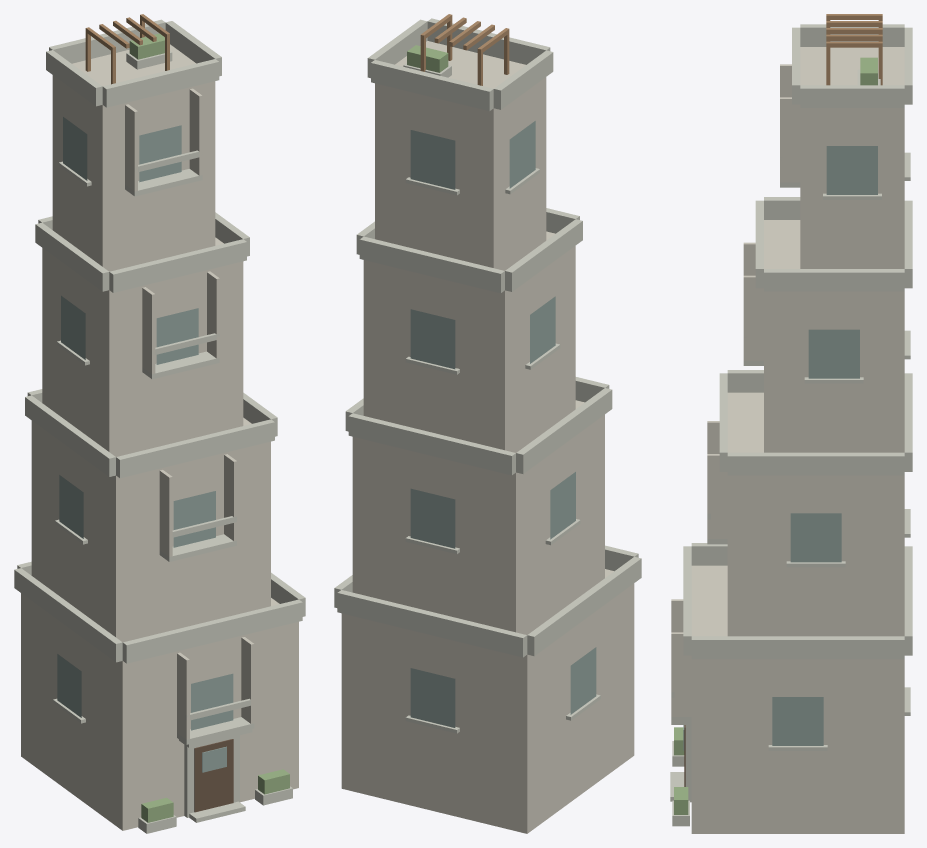
File: residential_1x1_terraces.glb
3 views of the same model, side by side, from view 1: azimuth 30°, elevation 25°; view 2: azimuth 150°, elevation 25°; view 3: azimuth 270°, elevation 25° (orthographic). The views are drawn at different scales.
Parts seen in each view (by area): view 1: residential_1x1_terraces_0; view 2: residential_1x1_terraces_0; view 3: residential_1x1_terraces_0.
Boxes of the visible parts, bbox=[...] form: residential_1x1_terraces_0: bbox=[14, 14, 305, 833]; residential_1x1_terraces_0: bbox=[334, 14, 641, 833]; residential_1x1_terraces_0: bbox=[670, 14, 912, 833].
Bounding box in the file's own units: 7 × 25.5 × 7.4.
